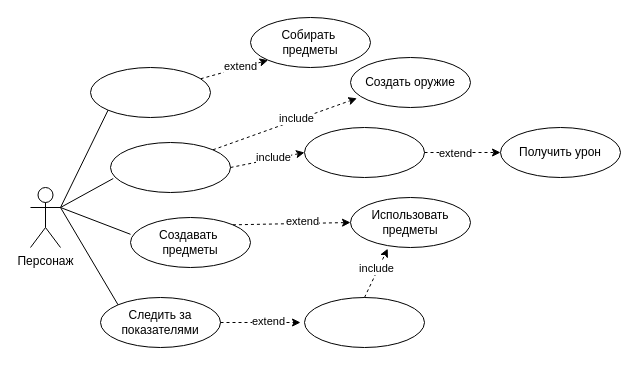
The diagram is 638 pixels wide and 365 high, and some of its shapes have lost their labels. The centre of each missing label's shape, as x and y in pixels:
"Восполнять показатели" belongs at pixel 364 322.
"Исследовать локации" belongs at pixel 150 92.
"Нанести урон врагу" belongs at pixel 364 152.
"Сражаться с врагами" belongs at pixel 170 167.
